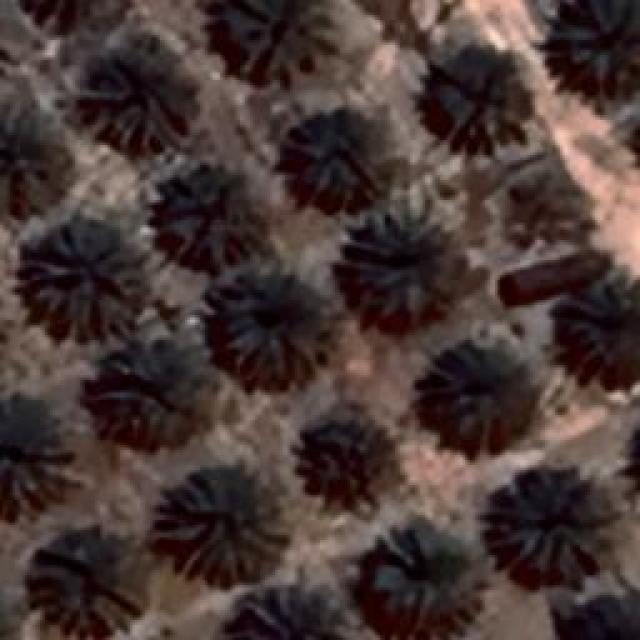PalmTree: (150, 470, 290, 585), (346, 218, 479, 330), (25, 220, 150, 338), (424, 344, 552, 458), (488, 468, 612, 580), (75, 40, 195, 150), (202, 272, 328, 376), (28, 542, 148, 638), (158, 169, 266, 269), (286, 106, 386, 209), (372, 522, 472, 620), (220, 0, 338, 80), (305, 416, 403, 512), (91, 348, 199, 432), (560, 274, 640, 374), (506, 164, 592, 254), (430, 46, 515, 136), (0, 402, 65, 512), (244, 580, 362, 640), (560, 0, 638, 88), (0, 108, 70, 204), (10, 0, 133, 40), (547, 588, 640, 640), (0, 594, 23, 640)
